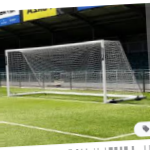goals: (5, 39, 146, 105)
